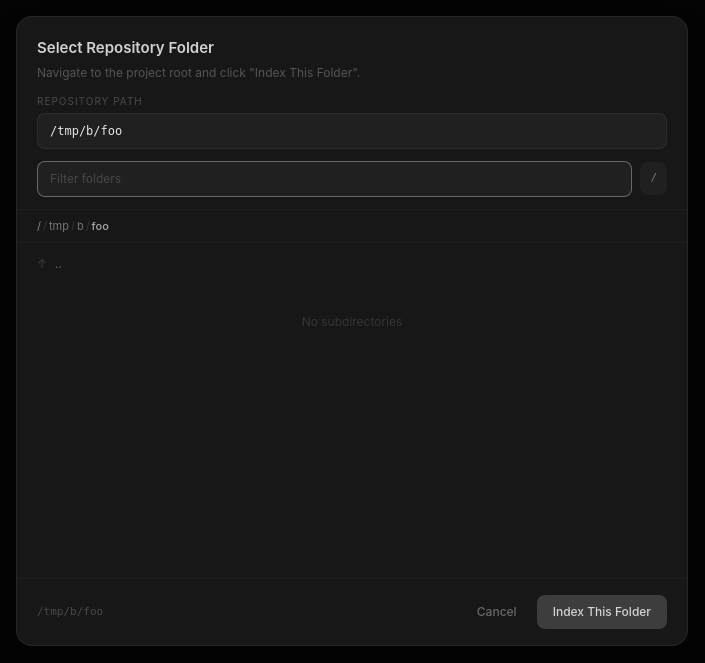
Test: CreateIndexModal 409 + path-only POST › stays open on 409 name_exists and shows body.error
Expected: the field showing "/tmp/b/foo" is shown, [37, 113, 667, 149]
Click the button "Index This Folder". click: [602, 612]
box: [537, 595, 667, 629]
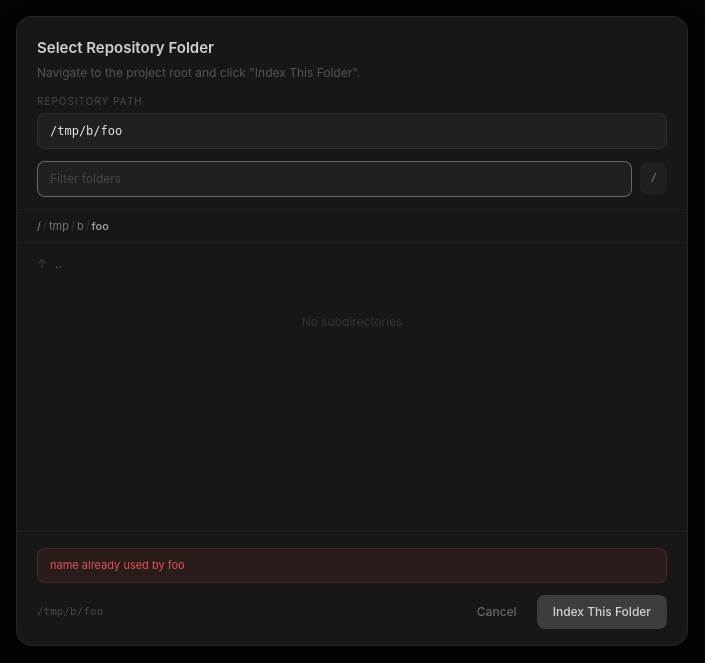
Expected: the heading "Select Repository Folder" is shown, [37, 38, 214, 57]
Expected: the text "name already used by foo" is shown, [50, 558, 185, 572]
